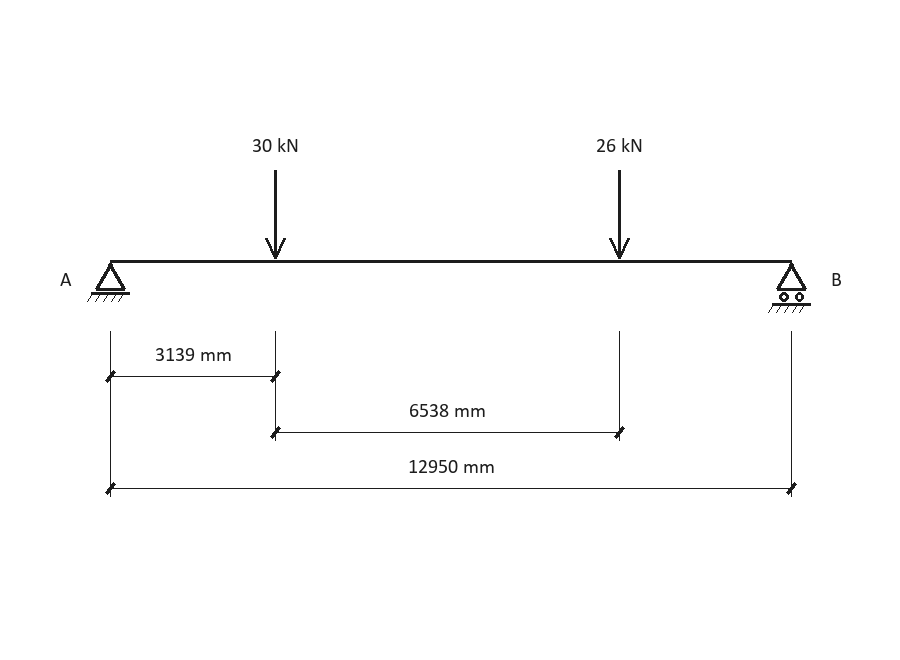pin_support: (87, 263, 130, 302)
point_load: (265, 170, 286, 259), (609, 170, 630, 259)
roller_support: (768, 263, 811, 313)
